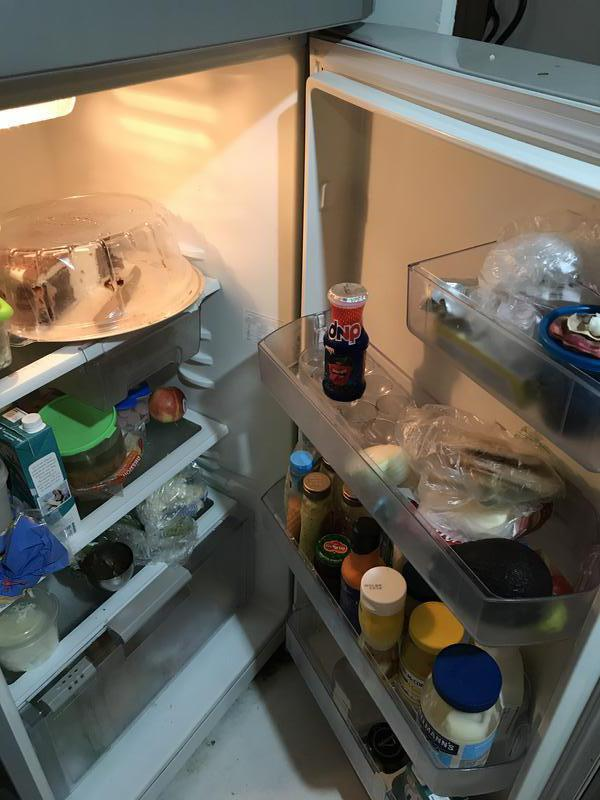danup: (322, 283, 370, 405)
